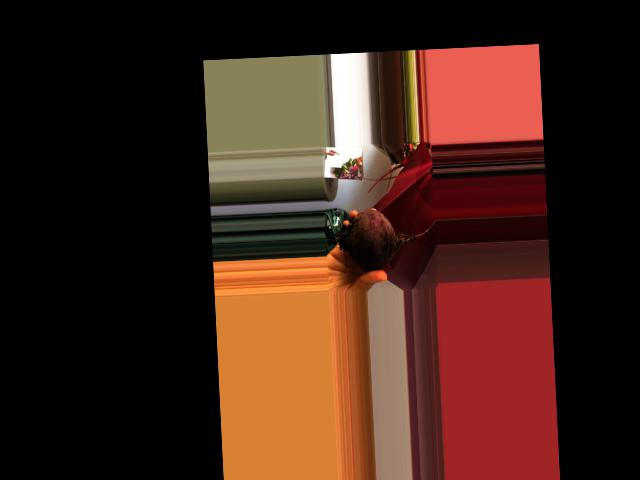beet: (324, 205, 437, 272)
